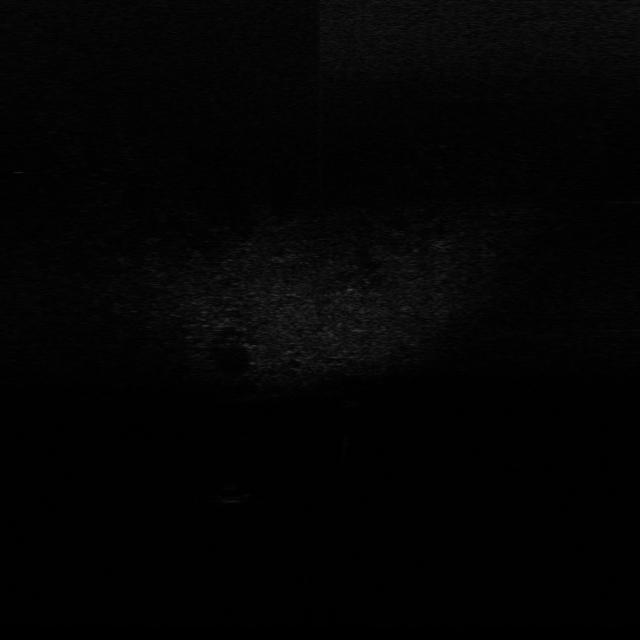ball: (216, 482, 252, 504)
cube: (333, 394, 369, 417)
